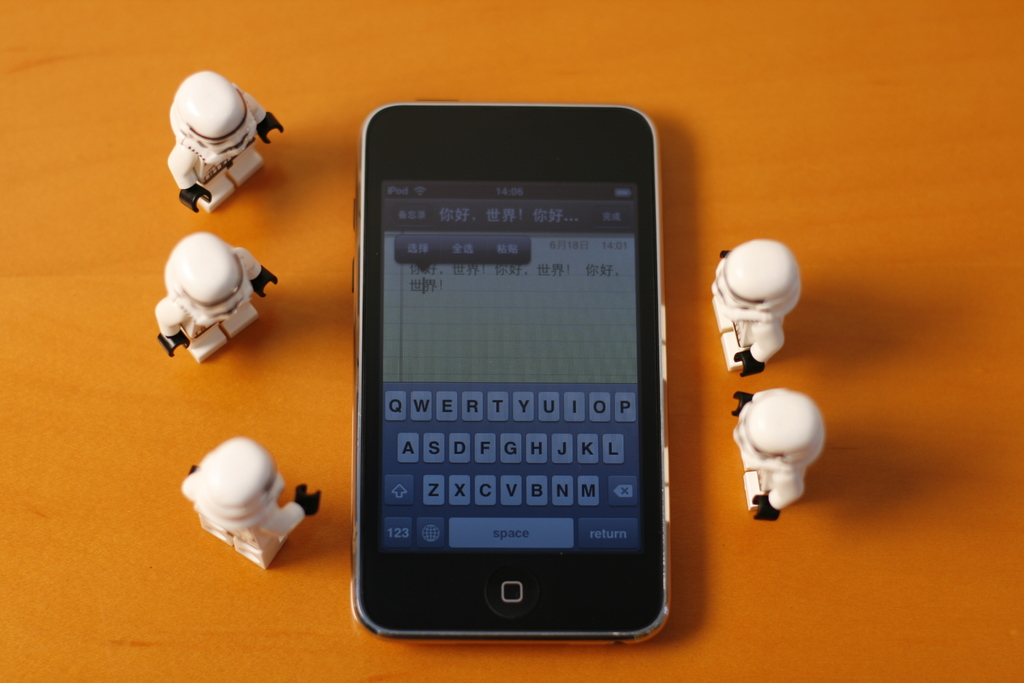mobile phone: (337, 119, 679, 636)
